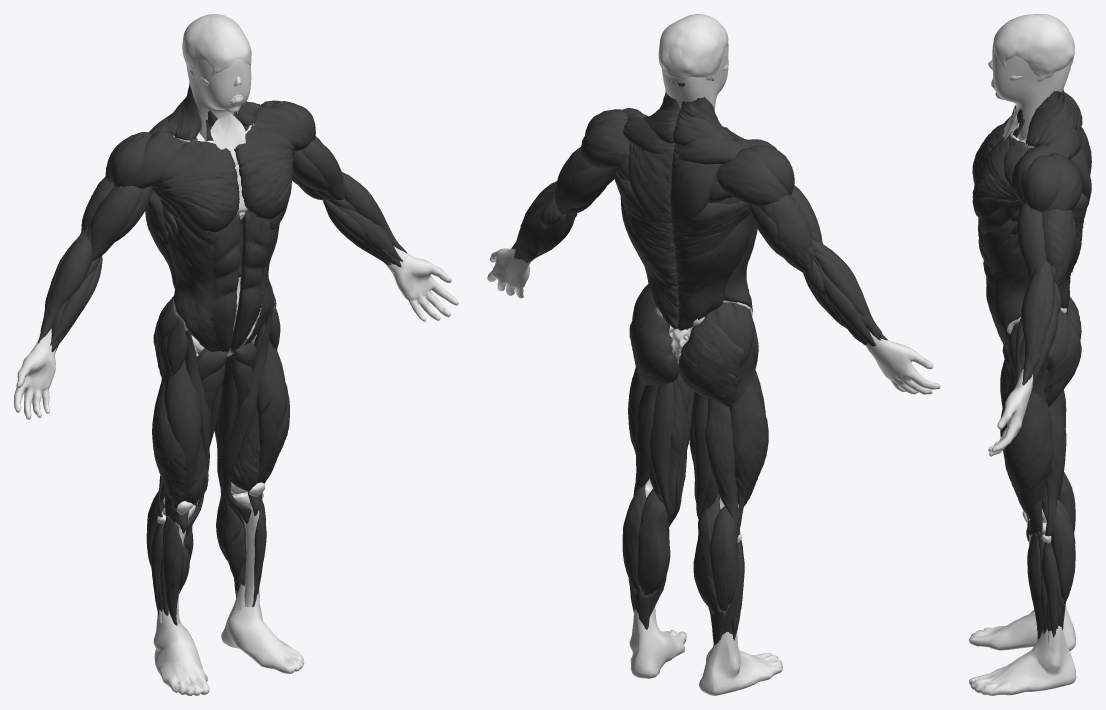
File: corpo-10.glb
The picture shows the model from 3 angles, left to right: view 1: azimuth 30°, elevation 25°; view 2: azimuth 150°, elevation 25°; view 3: azimuth 270°, elevation 25°; orthographic projection.
Parts seen in each view (by area): view 1: pele, peito_medial, deco, quad_reto_femoral, obliquos, adutores, antebraco_flexores, abdomen_supra, biceps_longa, antebraco_braquiorradial, cabeca, ombro_frontal (+17 smaller); view 2: pele, panturrilha_gastro, gluteo_maximo, dorsal_inferior, isquio_semitendineo, dorsal_superior, trapezio_inferior, antebraco_extensores, ombro_posterior, isquio_biceps_femoral, quad_vasto_lateral, osso (+13 smaller); view 3: pele, quad_vasto_lateral, deco, osso, obliquos, cabeca, peito_medial, gluteo_maximo, panturrilha_gastro, trapezio_superior, isquio_biceps_femoral, triceps_lateral (+22 smaller).
Part boxes in pixels (x1,y1,x2,y2): pele: (14,246,458,695); peito_medial: (152,138,294,232); deco: (151,110,273,625); quad_reto_femoral: (164,322,287,533); obliquos: (167,216,279,351); adutores: (187,338,257,538); antebraco_flexores: (50,198,402,351); abdomen_supra: (213,210,271,294); biceps_longa: (90,139,345,260); antebraco_braquiorradial: (38,172,407,343); cabeca: (186,15,251,140); ombro_frontal: (132,105,310,188); pele: (487,248,940,695); panturrilha_gastro: (622,484,738,611); gluteo_maximo: (629,303,743,407); dorsal_inferior: (625,226,746,330); isquio_semitendineo: (649,380,718,521); dorsal_superior: (613,168,754,257); trapezio_inferior: (628,142,722,230); antebraco_extensores: (514,188,881,346); ombro_posterior: (580,117,788,207); isquio_biceps_femoral: (633,385,739,536); quad_vasto_lateral: (628,367,768,506); osso: (658,16,728,80); pele: (969,369,1076,695); quad_vasto_lateral: (1004,392,1053,533); deco: (1007,109,1065,639); osso: (988,14,1074,99); obliquos: (982,220,1029,347); cabeca: (992,14,1074,140); peito_medial: (972,121,1019,220); gluteo_maximo: (1044,297,1081,406); panturrilha_gastro: (1051,472,1075,603); trapezio_superior: (1025,69,1078,146); isquio_biceps_femoral: (1042,390,1066,536); triceps_lateral: (1042,209,1074,283).
Bounding box in the file's own units: 1.19 × 1.65 × 0.2829.
Materials: 1 (1 with a texture image).
